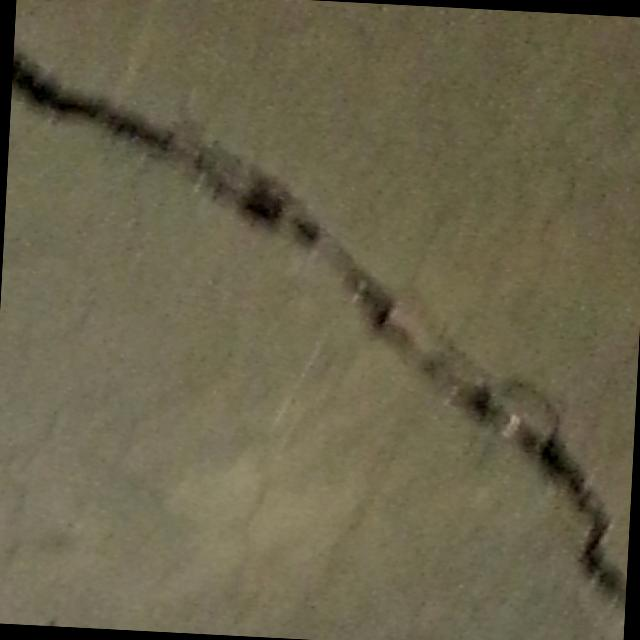crack: (314, 266, 638, 606), (3, 50, 374, 268)
